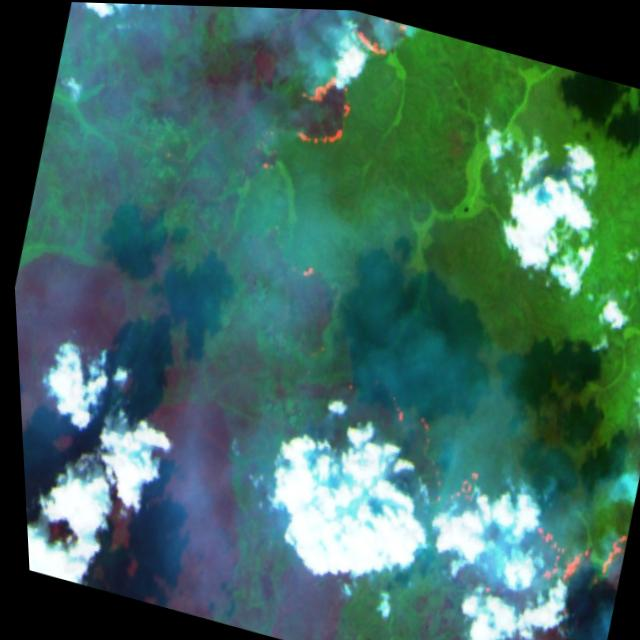fire: (317, 382, 640, 640), (280, 7, 419, 169)
